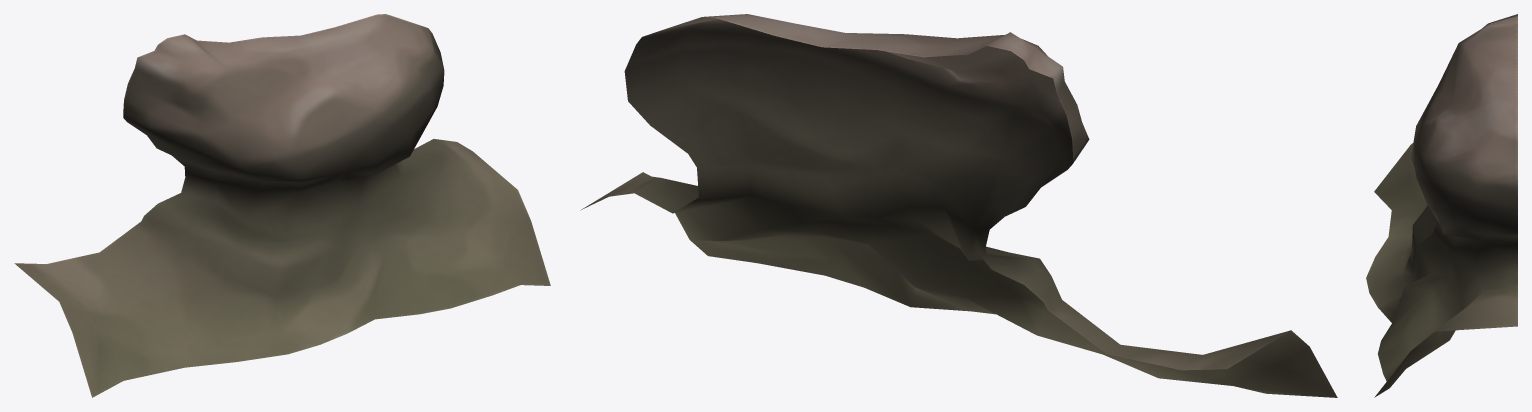
The model's file is Border_Rock_1.FBX.
3 views of the same model, side by side, from view 1: azimuth 30°, elevation 25°; view 2: azimuth 150°, elevation 25°; view 3: azimuth 270°, elevation 25° (orthographic). The views are drawn at different scales.
Parts seen in each view (by area): view 1: Border_Rock_1; view 2: Border_Rock_1; view 3: Border_Rock_1.
Part boxes in pixels (x1=…): Border_Rock_1: x1=14, y1=14, x2=550, y2=397; Border_Rock_1: x1=580, y1=14, x2=1337, y2=397; Border_Rock_1: x1=1366, y1=14, x2=1517, y2=397.
Bounding box in the file's own units: 800 × 442 × 249.
